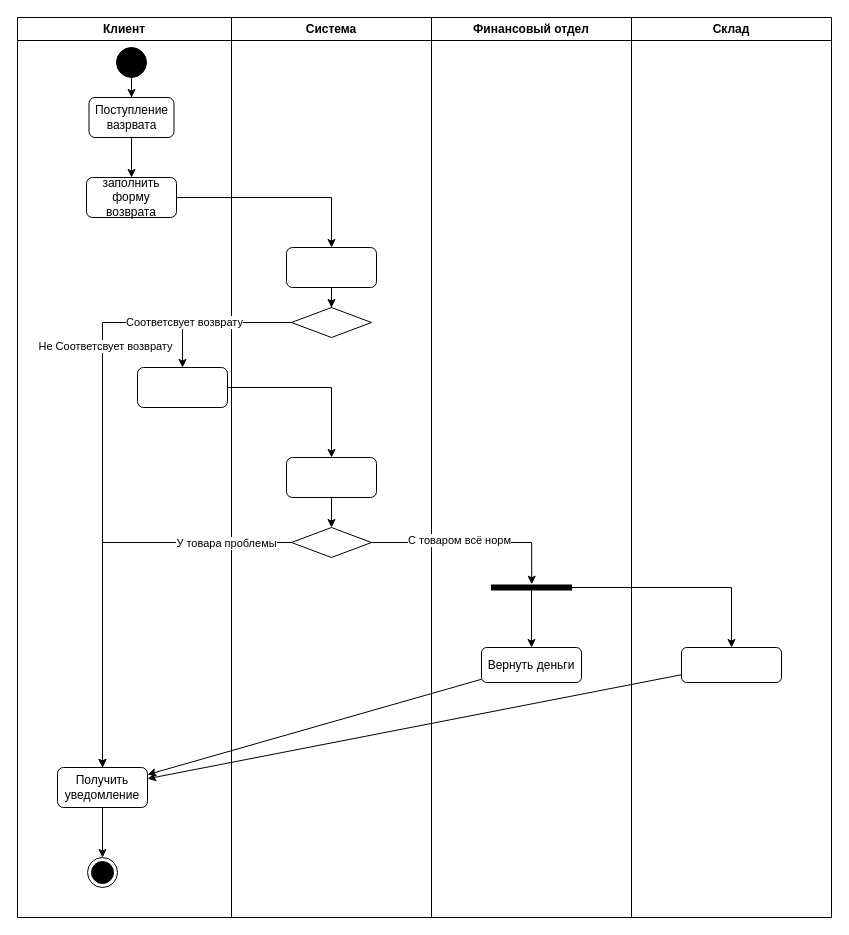
Some shapes in this 849 by 935 pixel diagram are drawn without their labels. The shapes that lost their labels are listed below. From the top down, each one's centre as x and y in pixels, then its label:
point (331, 267): Проверить Бланк
point (182, 387): Отправить товар
point (331, 477): Получить товар
point (731, 664): Обновить остатки
